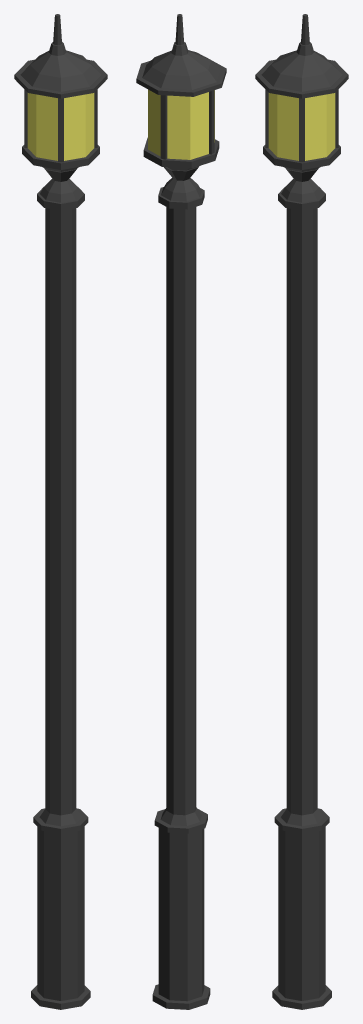
The model's file is SM_streetlamp_02.fbx.
3 renders of one model, left to right at view 1: azimuth 90°, elevation 25°; view 2: azimuth 150°, elevation 25°; view 3: azimuth 270°, elevation 25°, orthographic.
Parts seen in each view (by area): view 1: Cylinder012; view 2: Cylinder012; view 3: Cylinder012.
Boxes of the visible parts, x1,y1,x2,y2 form: Cylinder012: [14, 14, 107, 1009]; Cylinder012: [136, 14, 226, 1009]; Cylinder012: [255, 14, 348, 1009].
Size of the model in its own units: 14.79 by 172 by 14.79.
